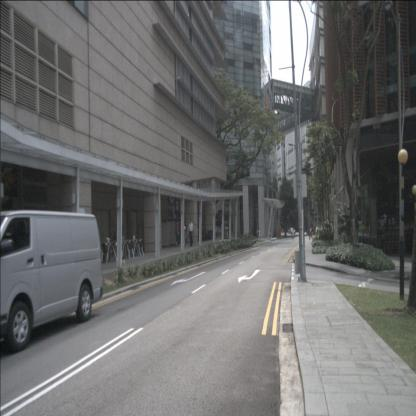human-pedestrian-adult: (188, 218, 193, 247), (175, 222, 180, 246), (182, 223, 186, 246), (292, 230, 295, 242), (256, 227, 259, 238), (311, 227, 314, 238), (258, 228, 261, 238), (310, 228, 312, 237)
vehicle-car: (0, 210, 103, 350), (377, 214, 395, 230), (288, 228, 296, 235)
